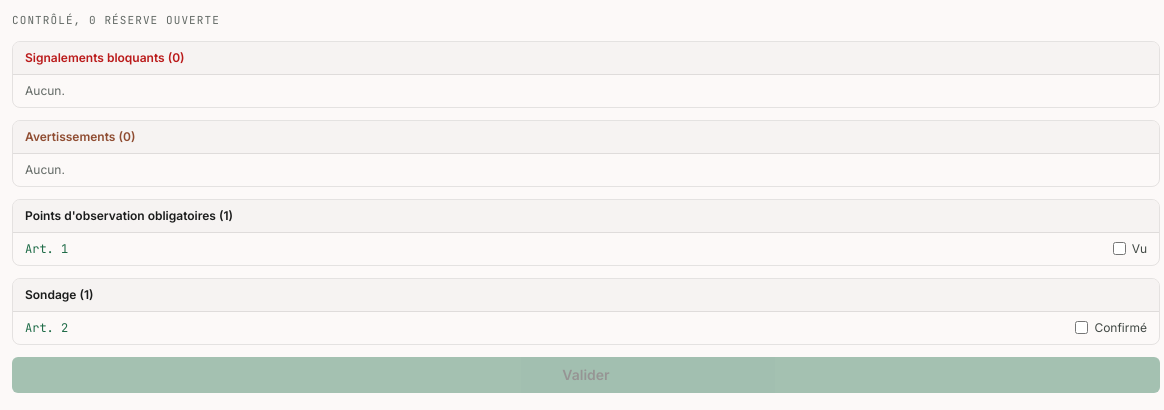
Test: AVerifierPanel › active Valider une fois les points obligatoires et le sondage cochés, sans bloquant
The width and height of the screenshot is (1164, 410).
Expected: the link "Art. 1" is shown, top-left (25, 240), bottom-right (68, 256)
Expected: the button "Valider" is disabled, top-left (12, 356), bottom-right (1160, 392)
Step 1. Click the checkbox labelled "Vu" → (1119, 248), box top-left (1113, 242), bottom-right (1126, 255)
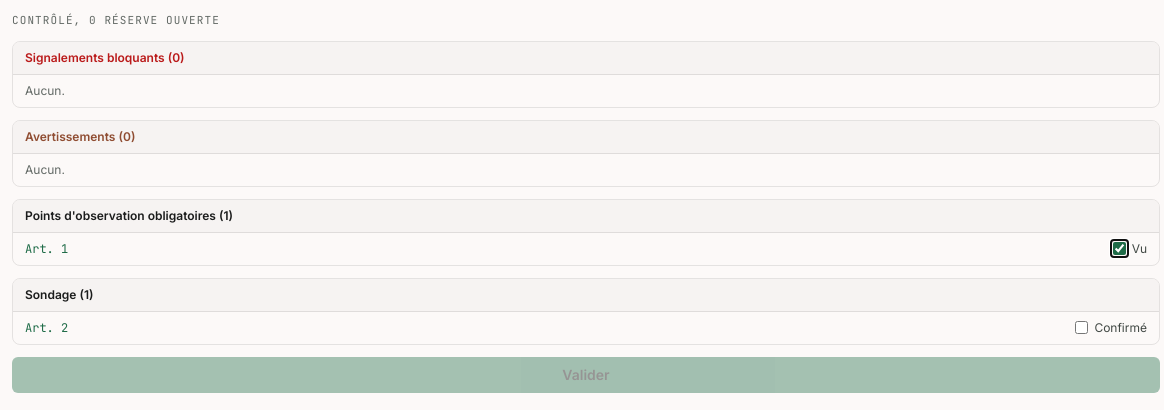
Step 2. Click the checkbox labelled "Confirmé" → (1082, 328), box top-left (1075, 321), bottom-right (1088, 334)
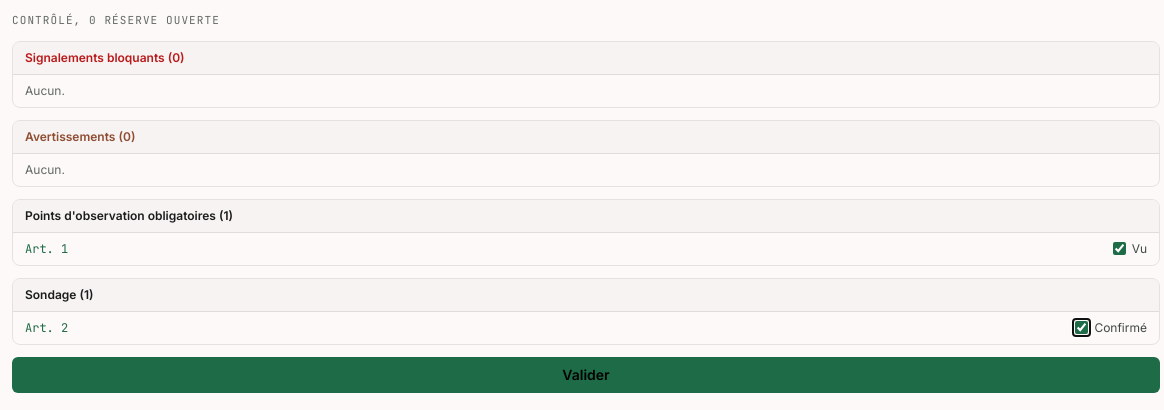
Expected: the button "Valider" is enabled, top-left (12, 356), bottom-right (1160, 392)
